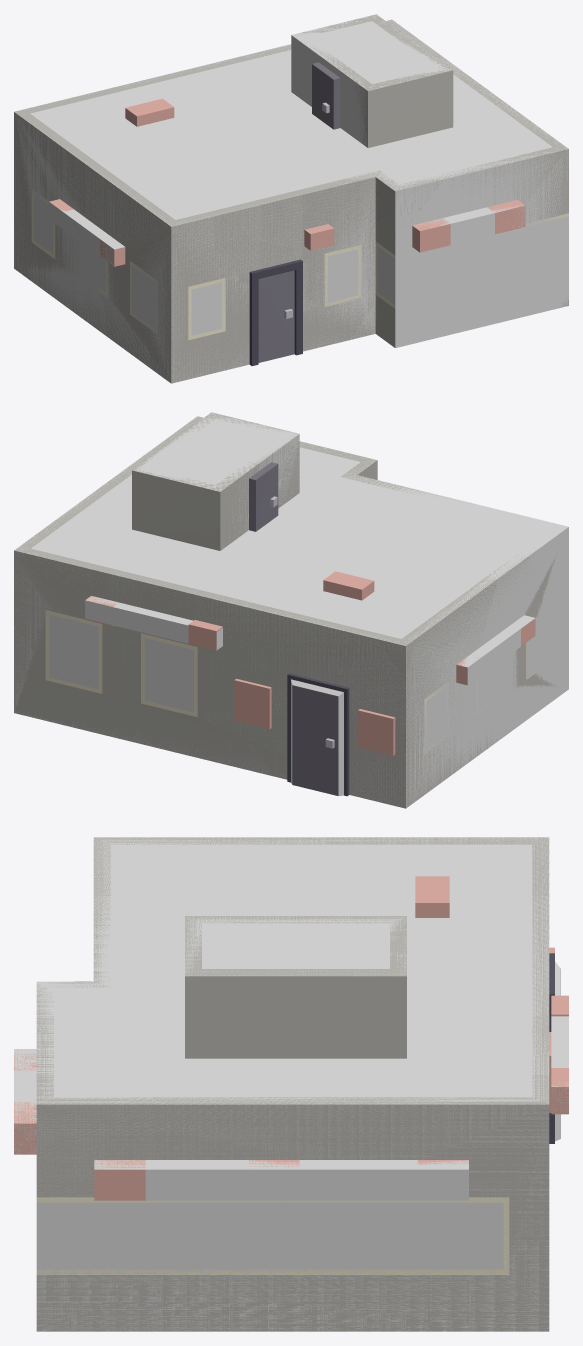
File: Home10_B1_1_01.FBX
3 renders of one model, top to bottom at view 1: azimuth 30°, elevation 25°; view 2: azimuth 150°, elevation 25°; view 3: azimuth 270°, elevation 25°, orthographic. The views are drawn at different scales.
Visible parts, largest first — view 1: Home10_B1_Damage_1_01, Home10_B1_Live_1_01; view 2: Home10_B1_Damage_1_01, Home10_B1_Live_1_01; view 3: Home10_B1_Damage_1_01, Home10_B1_Live_1_01.
Boxes of the visible parts, x1,y1,x2,y2 form: Home10_B1_Damage_1_01: (14,15,568,383); Home10_B1_Live_1_01: (14,14,568,383); Home10_B1_Damage_1_01: (14,413,568,808); Home10_B1_Live_1_01: (14,412,557,808); Home10_B1_Damage_1_01: (14,837,568,1331); Home10_B1_Live_1_01: (14,837,568,1331).
Size of the model in its own units: 9.04 by 4.57 by 7.43.
